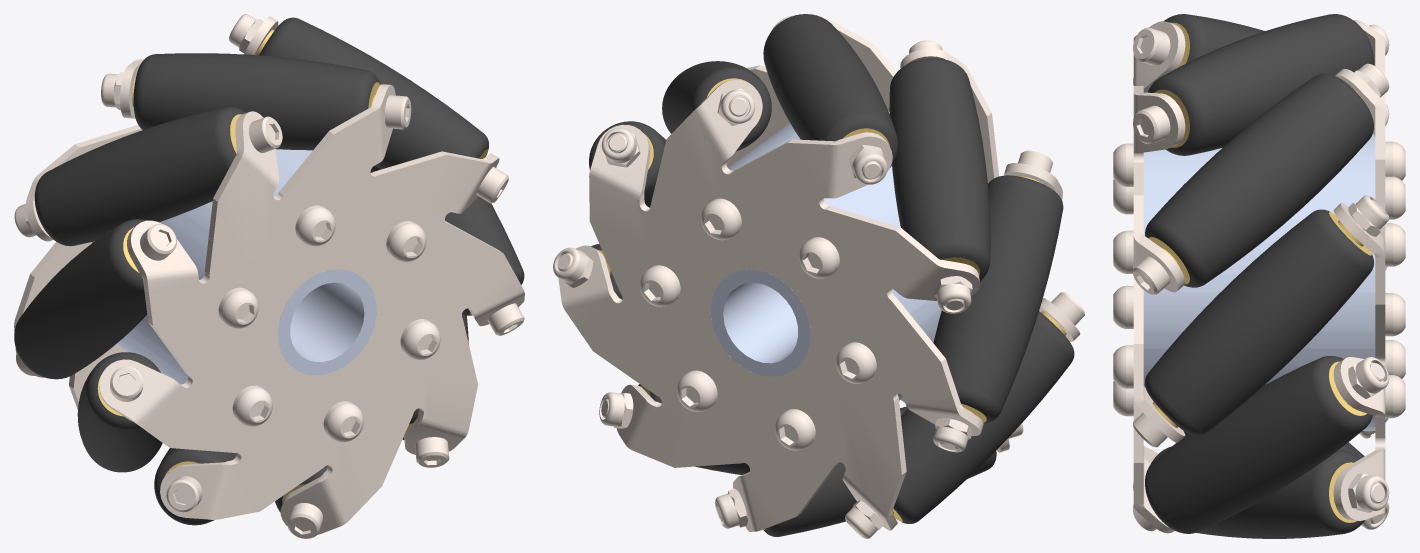
The picture shows the model from 3 angles, left to right: view 1: azimuth 30°, elevation 25°; view 2: azimuth 150°, elevation 25°; view 3: azimuth 270°, elevation 25°; orthographic projection. The views are drawn at different scales.
Visible parts, largest first — view 1: node3, node0, node1, node2; view 2: node3, node0, node1, node2; view 3: node0, node3, node1, node2.
Boxes of the visible parts, x1,y1,x2,y2 form: node3: [14, 14, 524, 538]; node0: [14, 17, 524, 525]; node1: [92, 149, 376, 384]; node2: [97, 29, 488, 503]; node3: [553, 15, 1084, 538]; node0: [589, 14, 1074, 536]; node1: [711, 111, 941, 400]; node2: [597, 78, 1066, 529]; node0: [1145, 14, 1373, 538]; node3: [1113, 20, 1405, 533]; node1: [1143, 134, 1375, 430]; node2: [1148, 22, 1371, 522].
Bounding box in the file's own units: 0.1042 × 0.1042 × 0.058.
